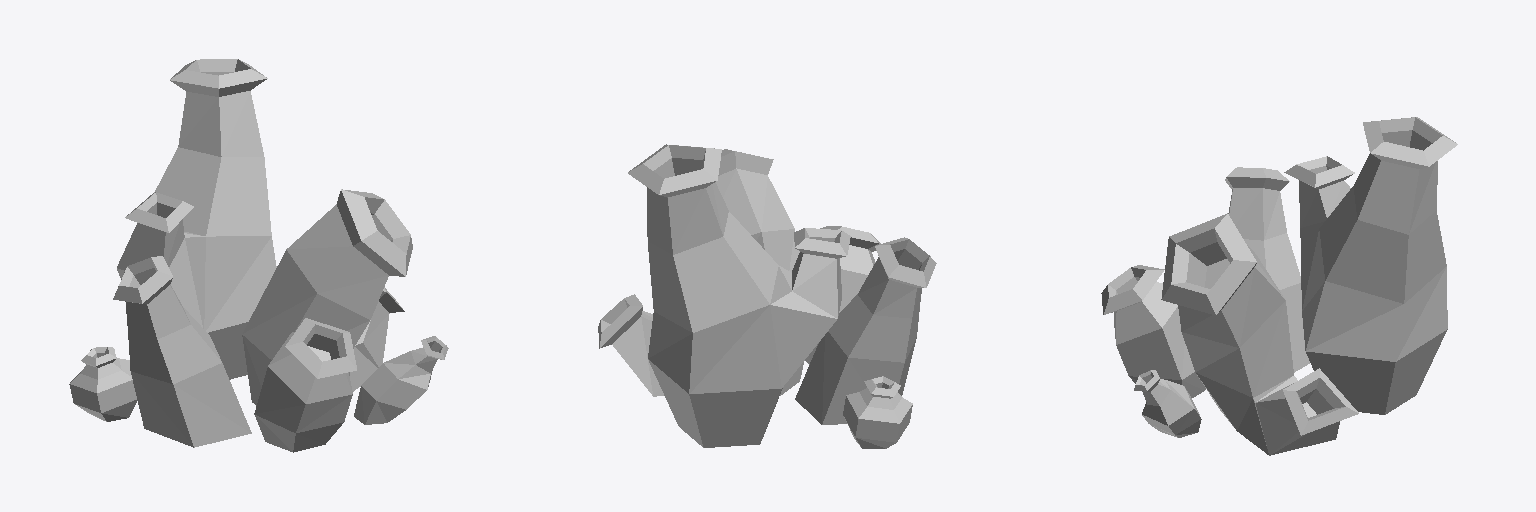
Rendered from tubecluster.obj.
The picture shows the model from 3 angles: view 1: azimuth 30°, elevation 25°; view 2: azimuth 150°, elevation 25°; view 3: azimuth 270°, elevation 25°; orthographic projection.
Bounding box in the file's own units: 1.87 × 1.58 × 1.81.